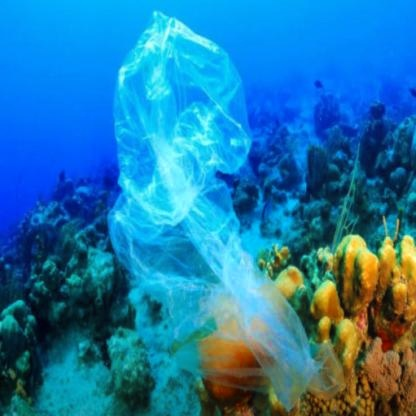plastic: (84, 47, 316, 414)
